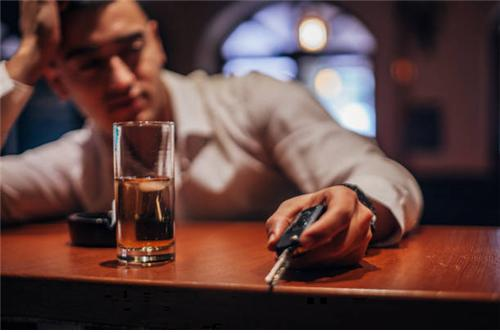alcohol: (112, 121, 176, 265)
